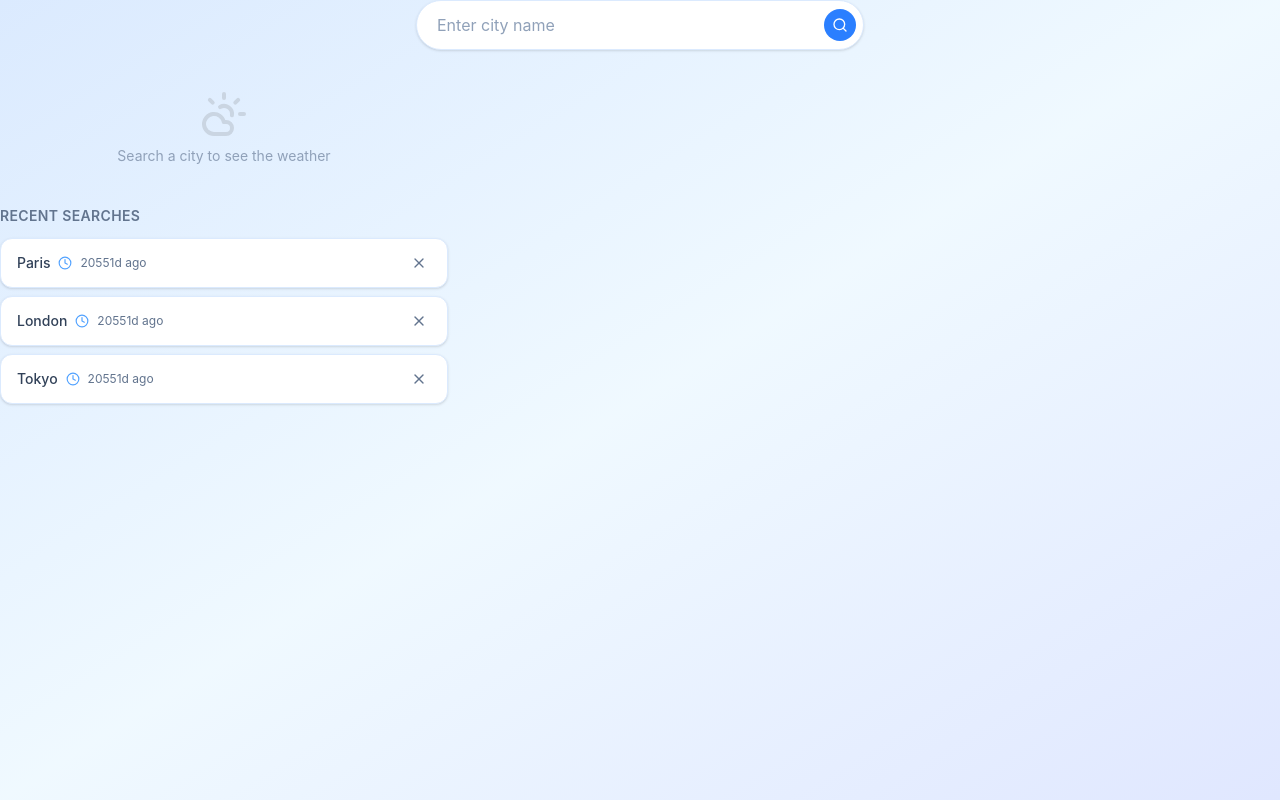
Duplicate search deduplication integration › moves an existing city to the top of history on re-search
This screenshot has width=1280, height=800.
Type "London" into the field labelled "Enter city name" at x=640, y=25, box [416,0,864,50]
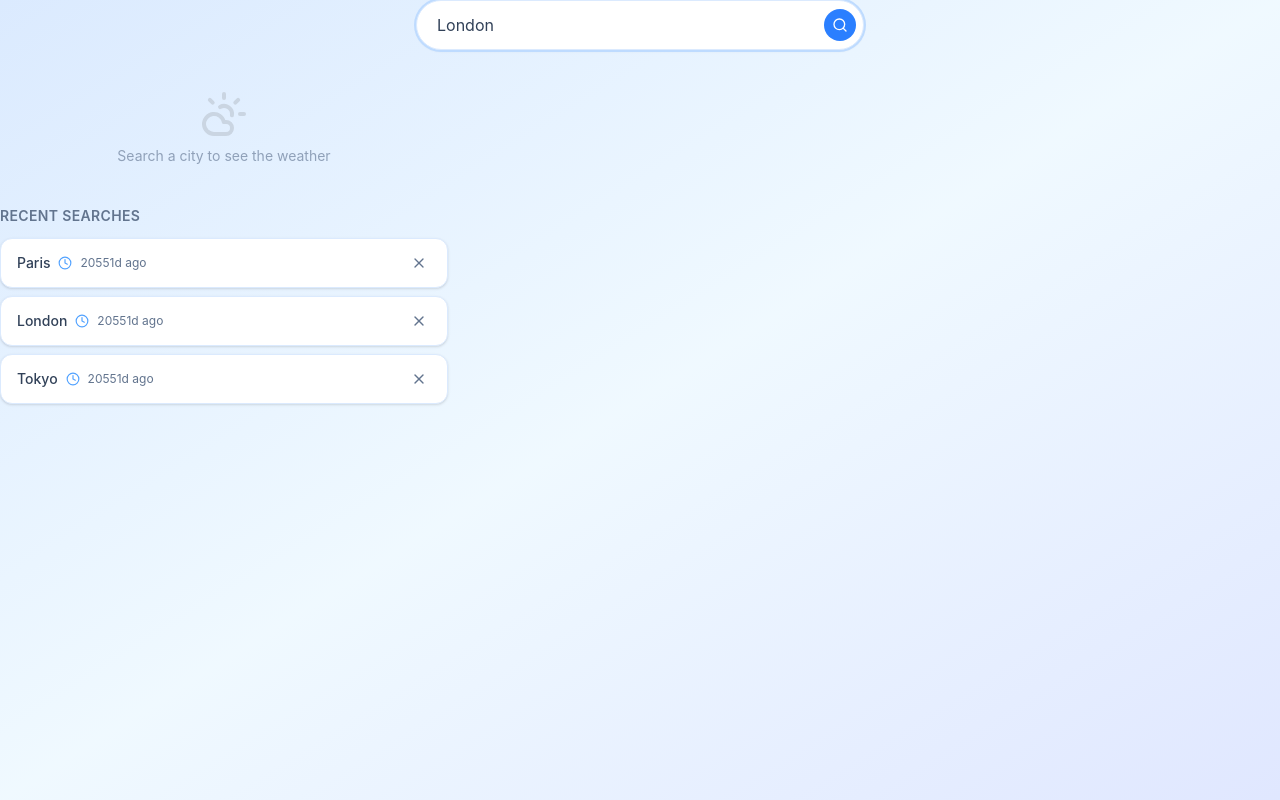
Click the button named "Search" at x=840, y=25, box [824,9,856,41]
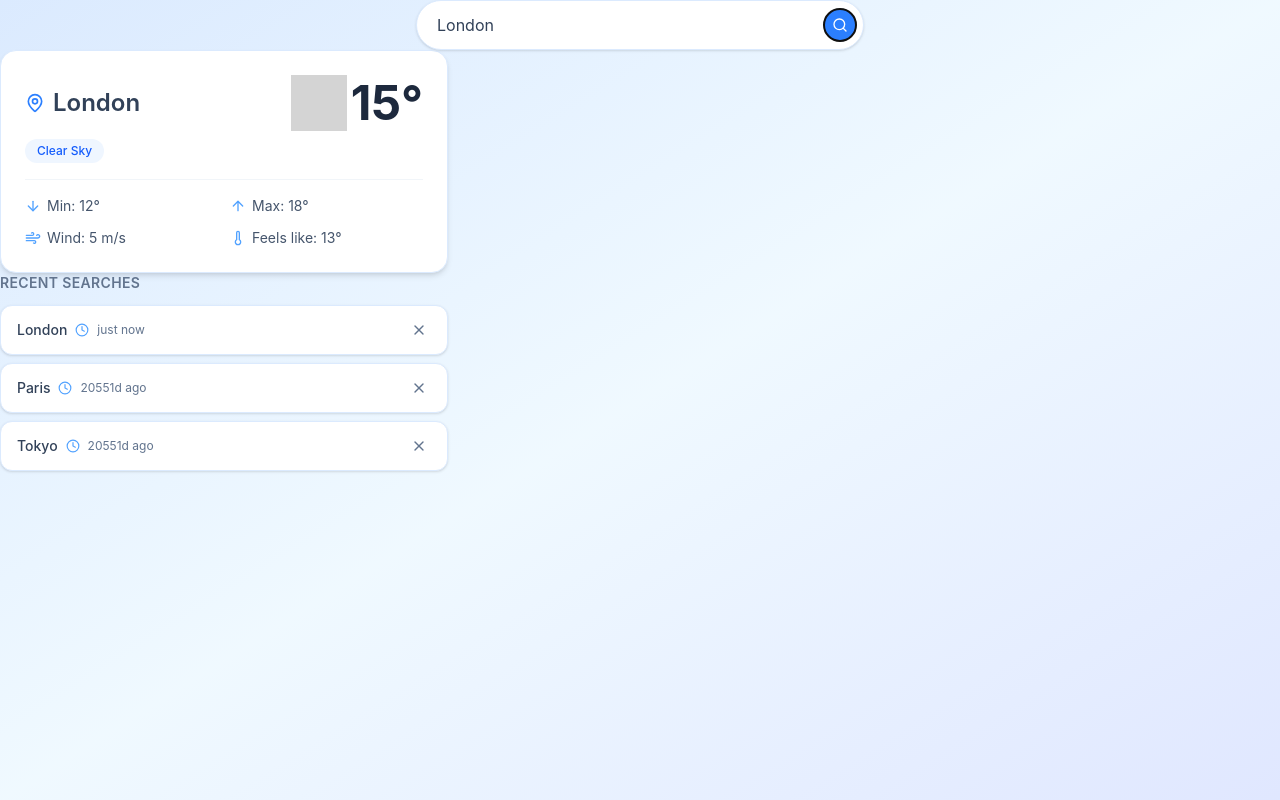
Expected: the list item "London just now" is shown, [0,305,448,355]
Expected: the element named "Weather for London" is shown, [0,50,448,273]
